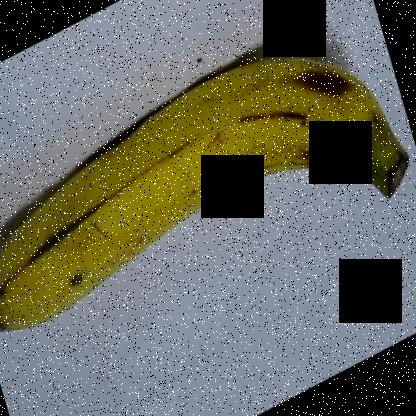ripe: (1, 33, 406, 345)
